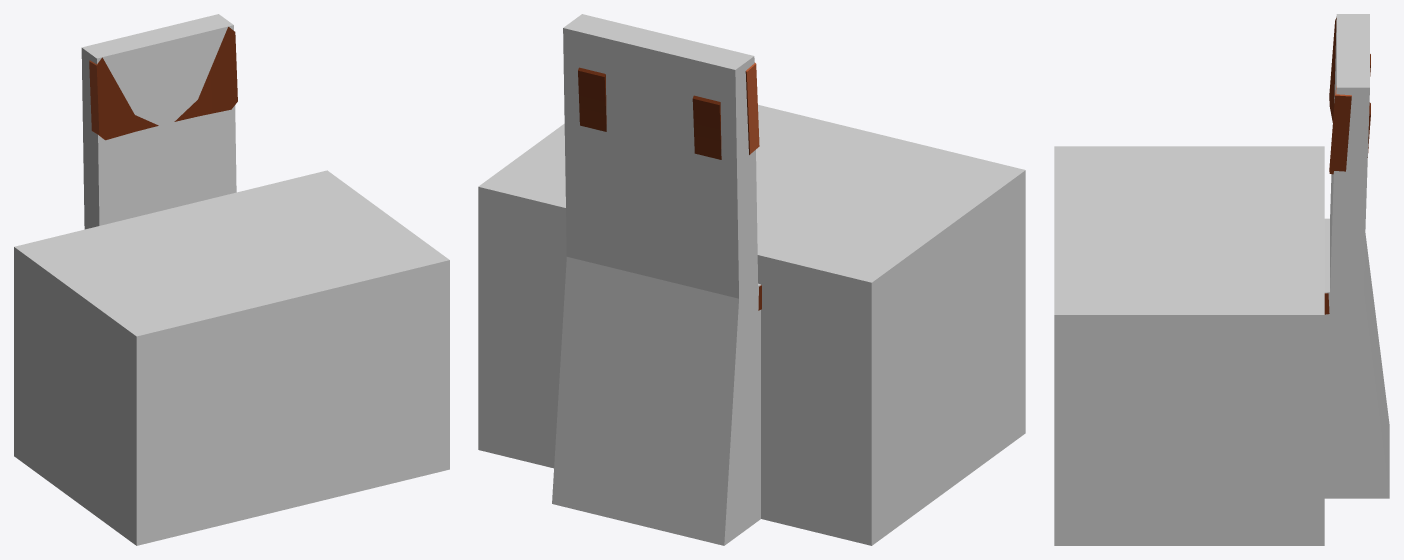
Rendered from TPChair.fbx.
The picture shows the model from 3 angles, left to right: view 1: azimuth 30°, elevation 25°; view 2: azimuth 150°, elevation 25°; view 3: azimuth 270°, elevation 25°; orthographic projection. The views are drawn at different scales.
Parts seen in each view (by area): view 1: trigger, COL, TPChair; view 2: trigger, COL, TPChair; view 3: trigger, COL, TPChair.
Part boxes in pixels (bbox=[...]): trigger: bbox=[14, 170, 449, 545]; COL: bbox=[81, 14, 236, 229]; TPChair: bbox=[89, 27, 237, 140]; trigger: bbox=[478, 104, 1025, 545]; COL: bbox=[552, 14, 760, 545]; TPChair: bbox=[578, 62, 761, 310]; trigger: bbox=[1054, 146, 1324, 545]; COL: bbox=[1324, 14, 1389, 498]; TPChair: bbox=[1324, 17, 1370, 314].
Size of the model in its own units: 78.12 by 65.61 by 88.72.
1 material, 1 textured.
